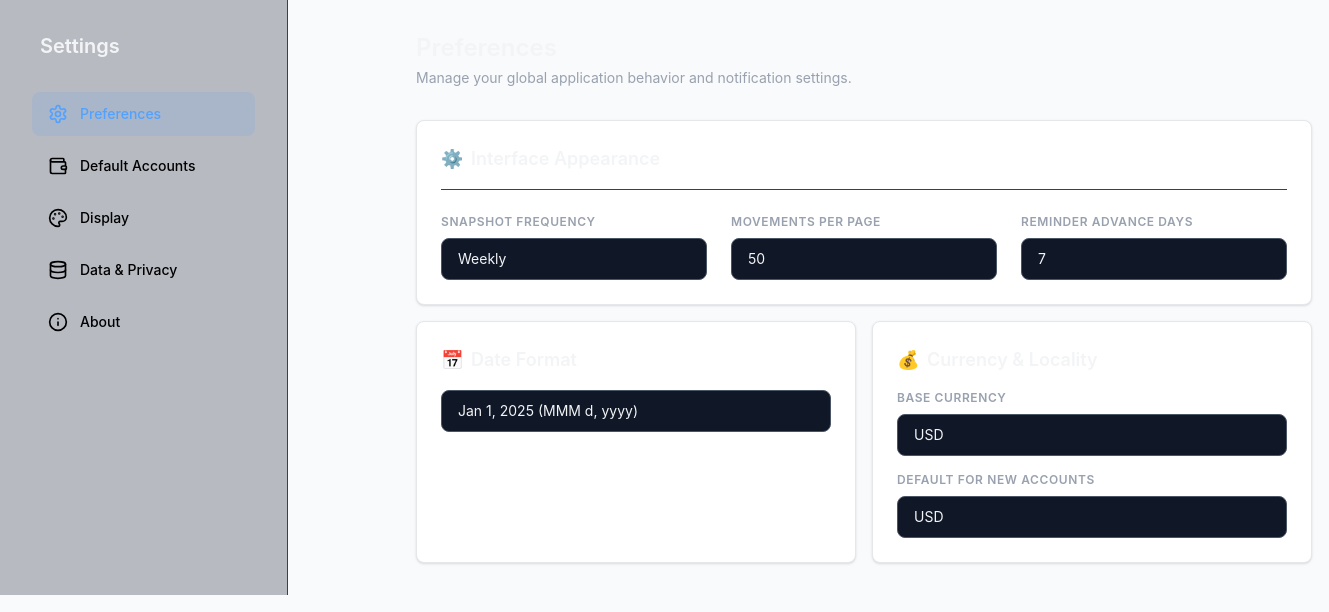
Test: SettingsPage › switches to the About section when its nav button is clicked
Click the button "About" at coordinates (144, 322), box [32,300,255,344]
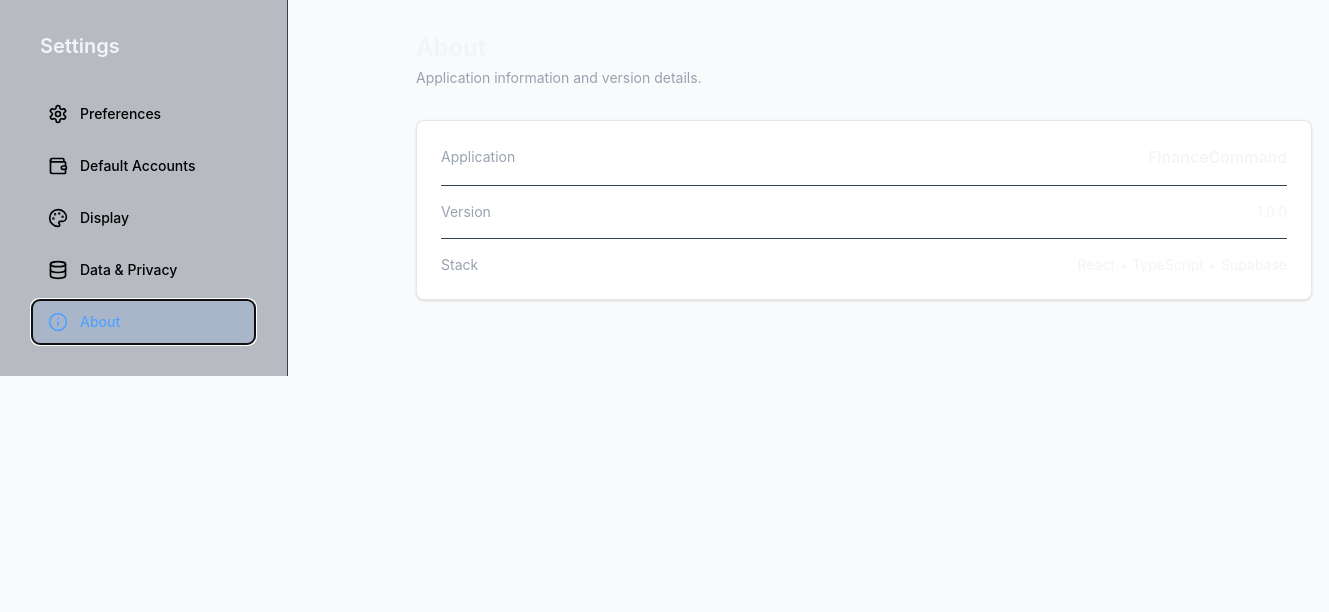
Expected: the text "Version" is shown, [441,202,491,222]
